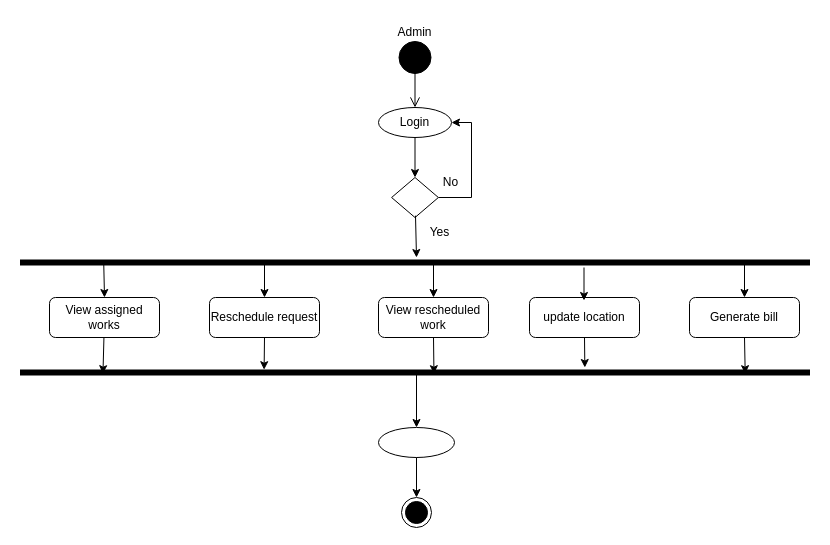
This 830x545 diagram has some shape labels left out. Each missing label, with the centre of its shape:
logout: pixel 416 442
Valid: pixel 414 197
